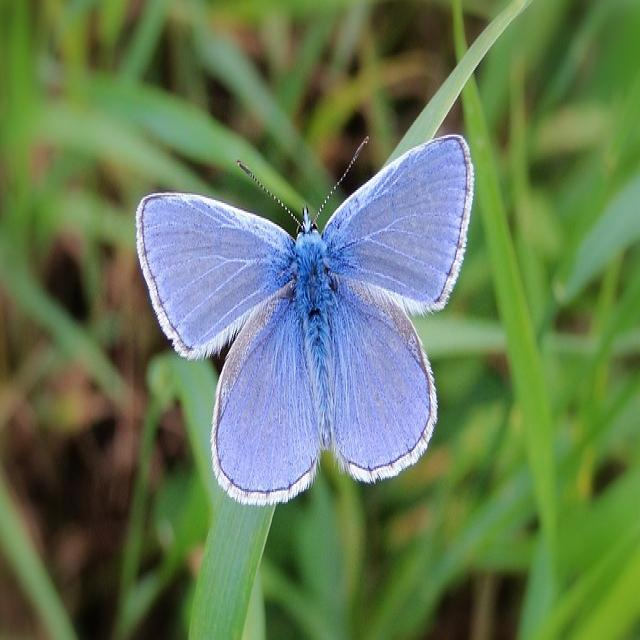butterfly: (134, 133, 476, 510)
